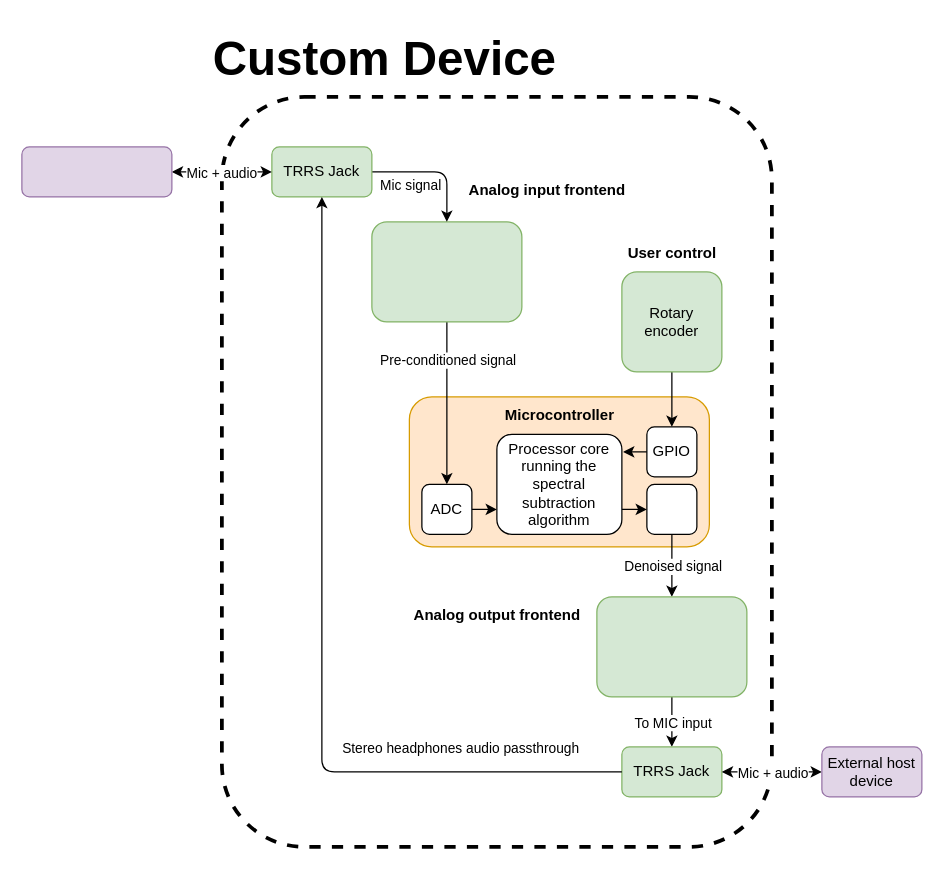
Some shapes in this 944 by 870 pixel diagram are drawn without their labels. The centre of each missing label's shape, as x and y in pixels:
"DAC" belongs at point (671, 508).
"Headphones with microphone" belongs at point (96, 171).
"Preamplification, biasing, anti-aliasing" belongs at point (446, 271).
"Reconstruction filter, attenuation, DC isolation" belongs at point (671, 646).
